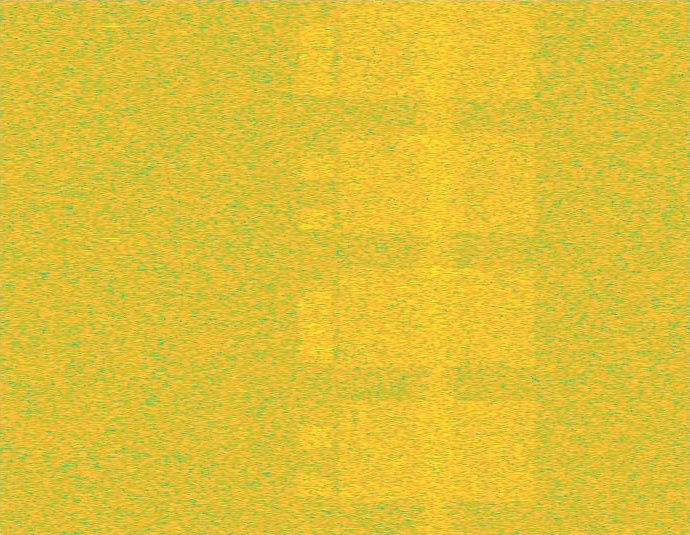5G: (334, 0, 541, 534)
DSSS: (414, 0, 461, 534)
LTE: (299, 0, 333, 534)
Radar: (107, 0, 120, 534)
